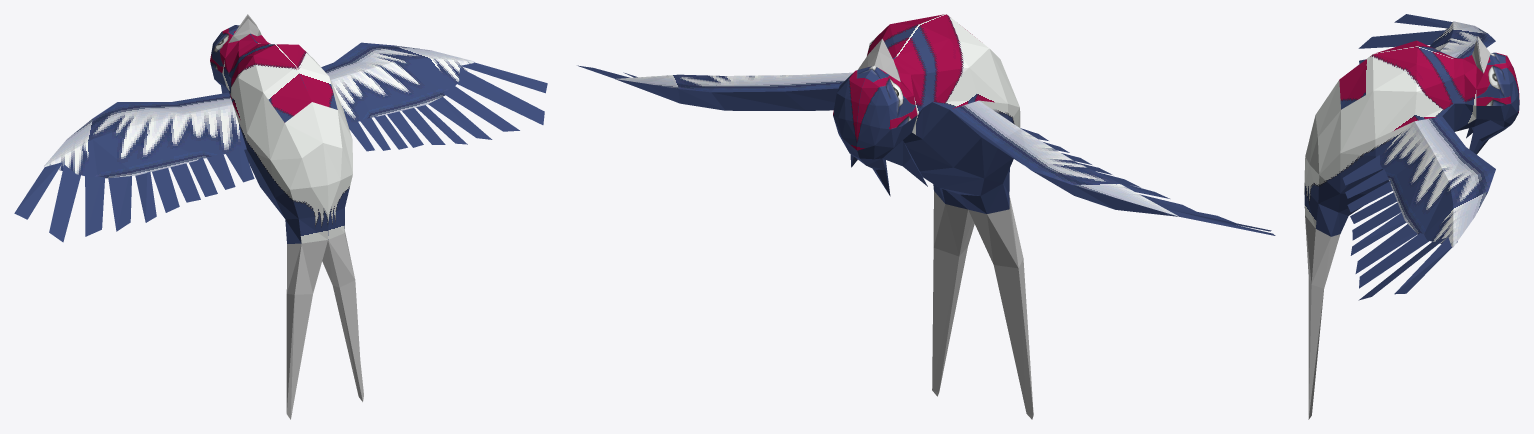
Rendered from BR_Swellow.obj.
3 views of the same model, side by side, from view 1: azimuth 30°, elevation 25°; view 2: azimuth 150°, elevation 25°; view 3: azimuth 270°, elevation 25° (orthographic). The views are drawn at different scales.
Visible parts, largest first — view 1: ohsubame; view 2: ohsubame; view 3: ohsubame.
Part boxes in pixels (bbox=[...]): ohsubame: bbox=[14, 14, 547, 419]; ohsubame: bbox=[577, 14, 1275, 419]; ohsubame: bbox=[1304, 14, 1519, 419].
Size of the model in its own units: 17.83 by 10.85 by 5.8.
